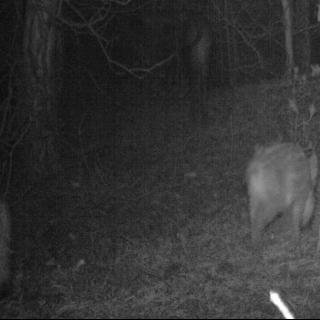Pig: (240, 122, 317, 249)
